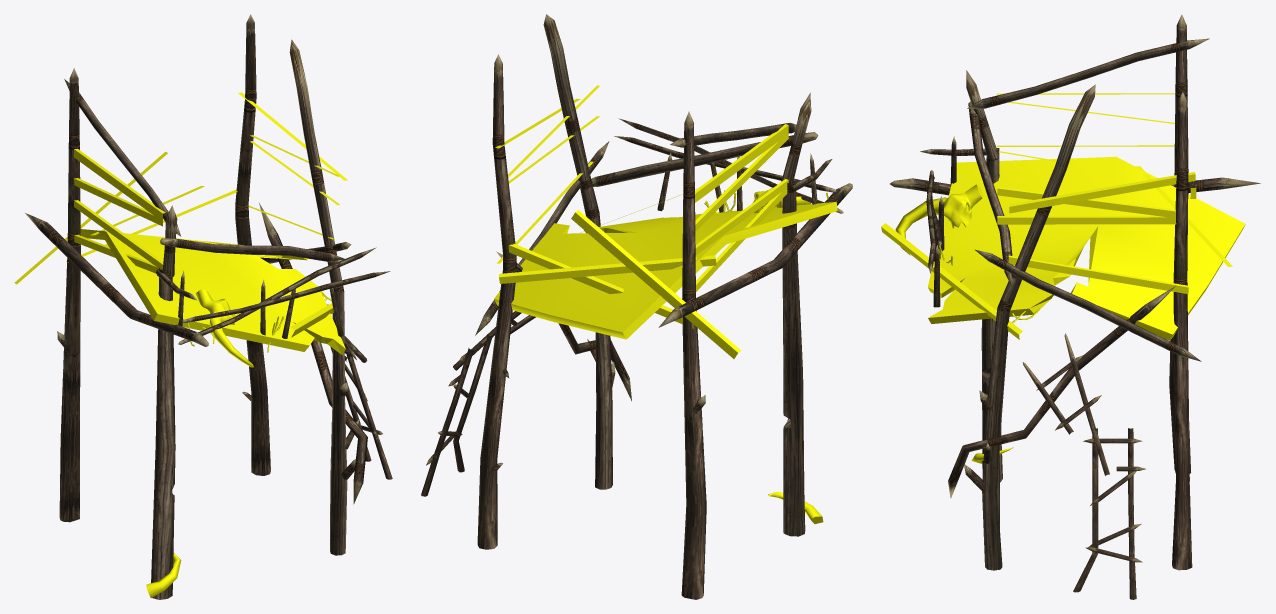
Rendered from gaint_builda_05_d.glb.
3 views of the same model, side by side, from view 1: azimuth 30°, elevation 25°; view 2: azimuth 150°, elevation 25°; view 3: azimuth 270°, elevation 25° (orthographic). The views are drawn at different scales.
Visible parts, largest first — view 1: Object15; view 2: Object15; view 3: Object15.
Part boxes in pixels (left/top/right/bottom): Object15: left=14, top=14, right=392, bottom=599; Object15: left=421, top=14, right=852, bottom=599; Object15: left=881, top=14, right=1260, bottom=599.
Bounding box in the file's own units: 14.07 × 19.59 × 13.94.
4 materials, 4 textured.
